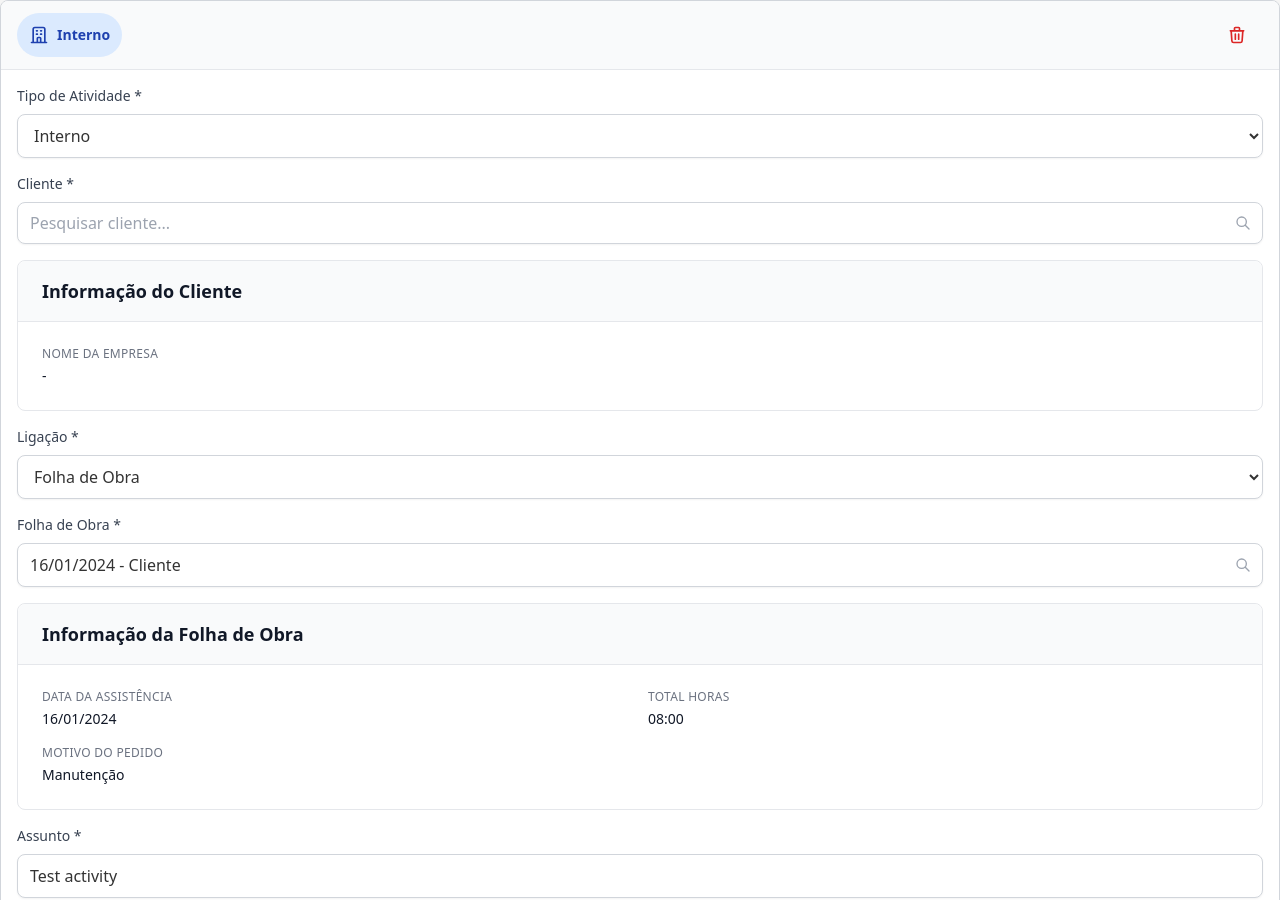
Test case: handleLinkTypeChange › when "Nenhuma": clears workSheetId, remoteAssistanceId, time fields, timeAutoPopulated
// Now change to "Nenhuma"
Select "Nenhuma" in the dropdown below "Ligação *" at (640, 477), box [17, 455, 1263, 499]
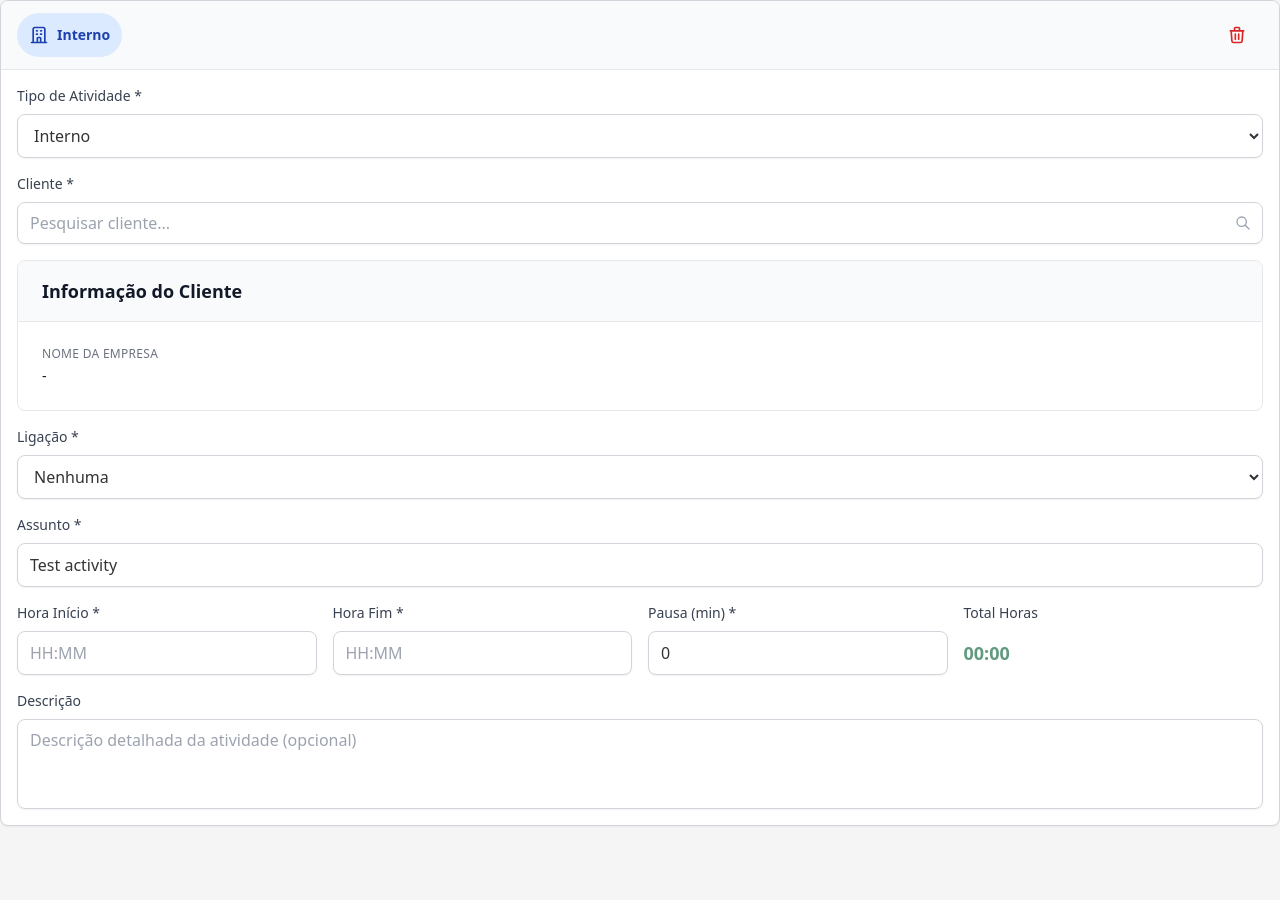
Expected: the field with placeholder "HH:MM" below "Hora Início *" is enabled, [17, 631, 316, 675]
Expected: the field with placeholder "HH:MM" below "Hora Fim *" is enabled, [332, 631, 632, 675]
